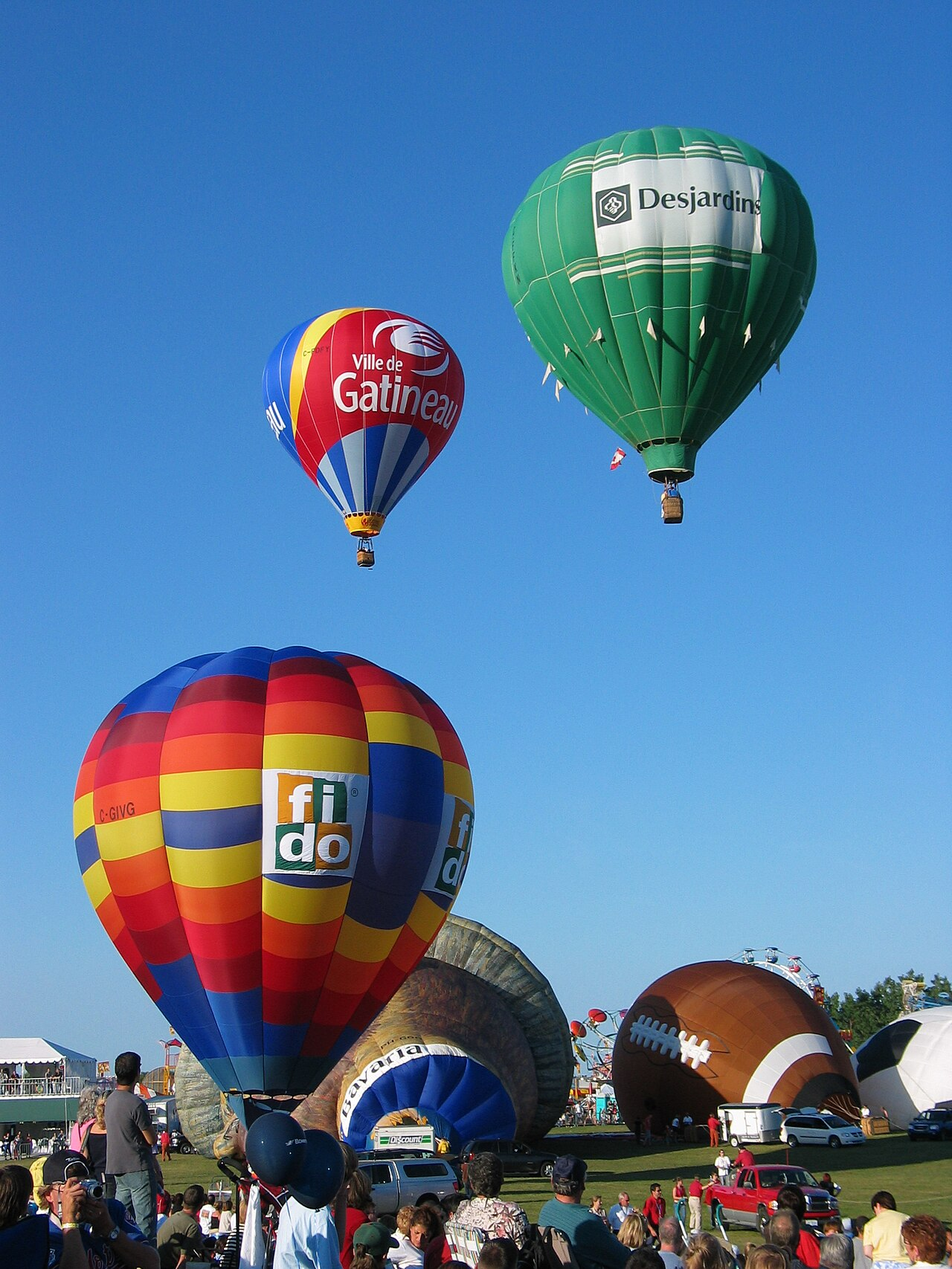balloon: (71, 643, 477, 1113), (500, 124, 821, 520), (173, 928, 575, 1166), (261, 316, 466, 570), (610, 968, 864, 1147), (850, 1010, 952, 1136)
